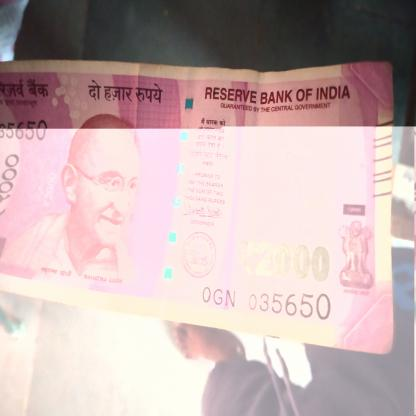New2000Front: (0, 64, 396, 342)
